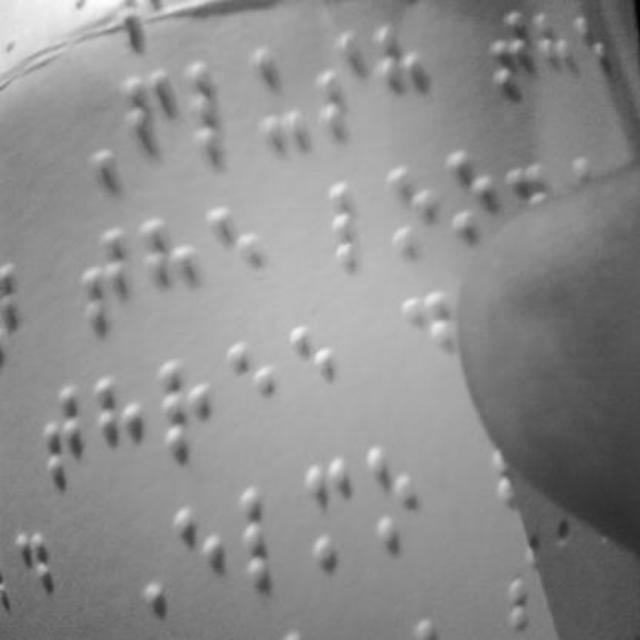braiile: (32, 372, 94, 493), (394, 292, 456, 404), (94, 366, 150, 488), (362, 445, 426, 551), (250, 43, 310, 155), (143, 209, 199, 329), (208, 201, 262, 321), (156, 358, 216, 466), (240, 480, 300, 588), (120, 62, 176, 176), (302, 454, 358, 568), (312, 29, 370, 138), (78, 224, 134, 336), (188, 56, 244, 166), (387, 158, 443, 266), (374, 26, 432, 130), (450, 146, 506, 252), (174, 493, 226, 602), (289, 314, 341, 422), (226, 334, 278, 436), (492, 5, 538, 109), (332, 176, 378, 272)
